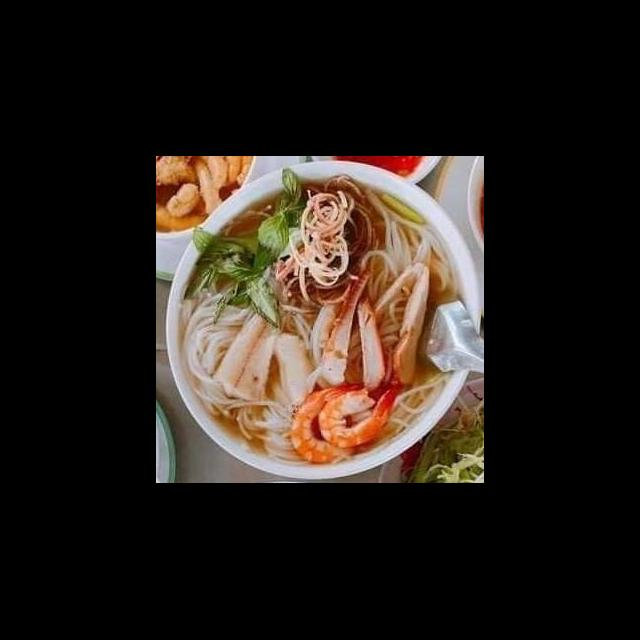bun: (177, 271, 306, 468), (360, 184, 459, 306), (379, 364, 460, 444)
ca: (208, 300, 283, 406), (267, 324, 319, 410)
thit heo quay: (315, 264, 374, 391), (353, 276, 389, 394)
tom: (284, 382, 384, 466), (315, 374, 405, 452)
